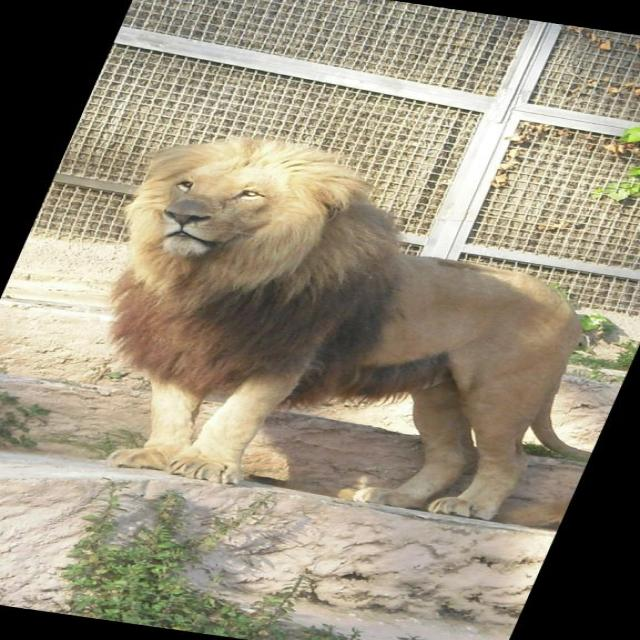Lion: (1, 113, 639, 533)
